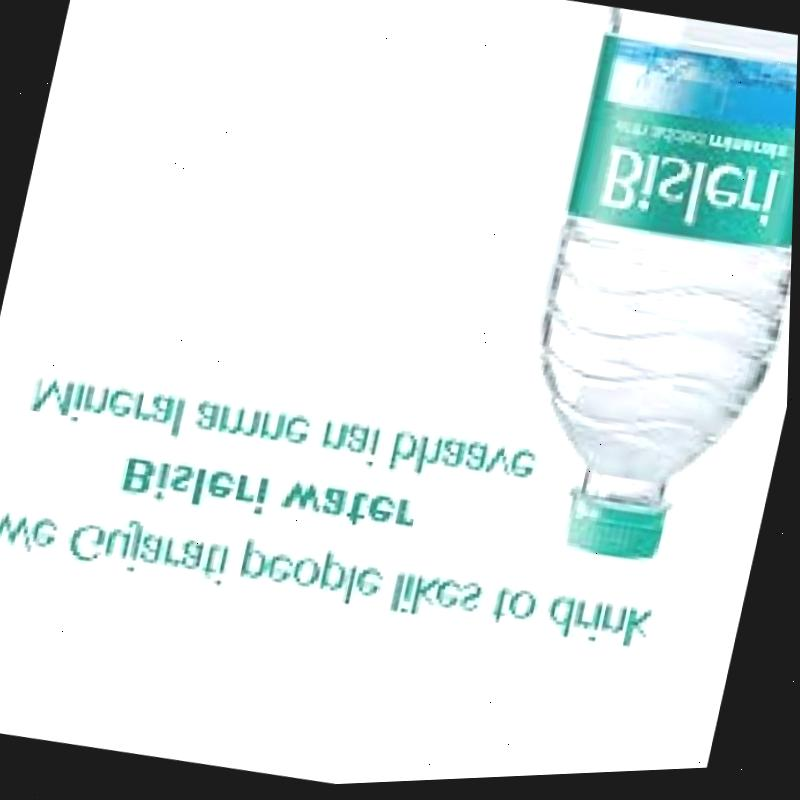botella: (492, 5, 799, 589)
